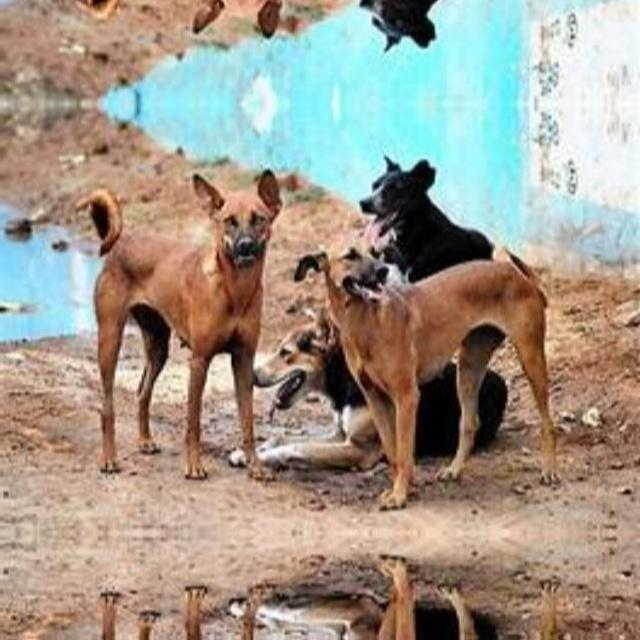dog: (92, 178, 278, 466), (93, 603, 278, 640), (93, 0, 278, 31)
